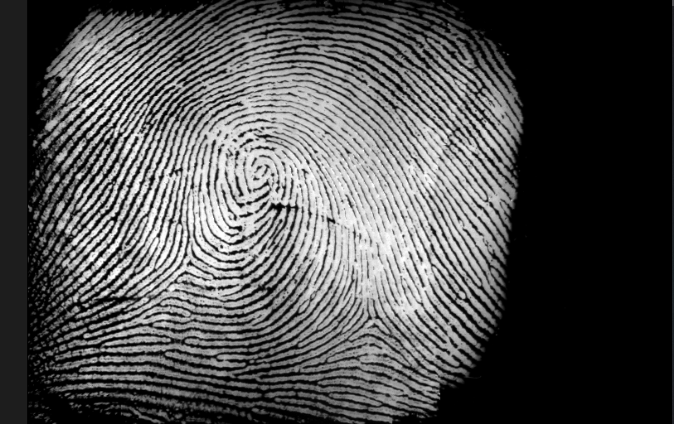deltas: (156, 227, 223, 292), (352, 287, 404, 350)
nucleo: (232, 142, 286, 188)
